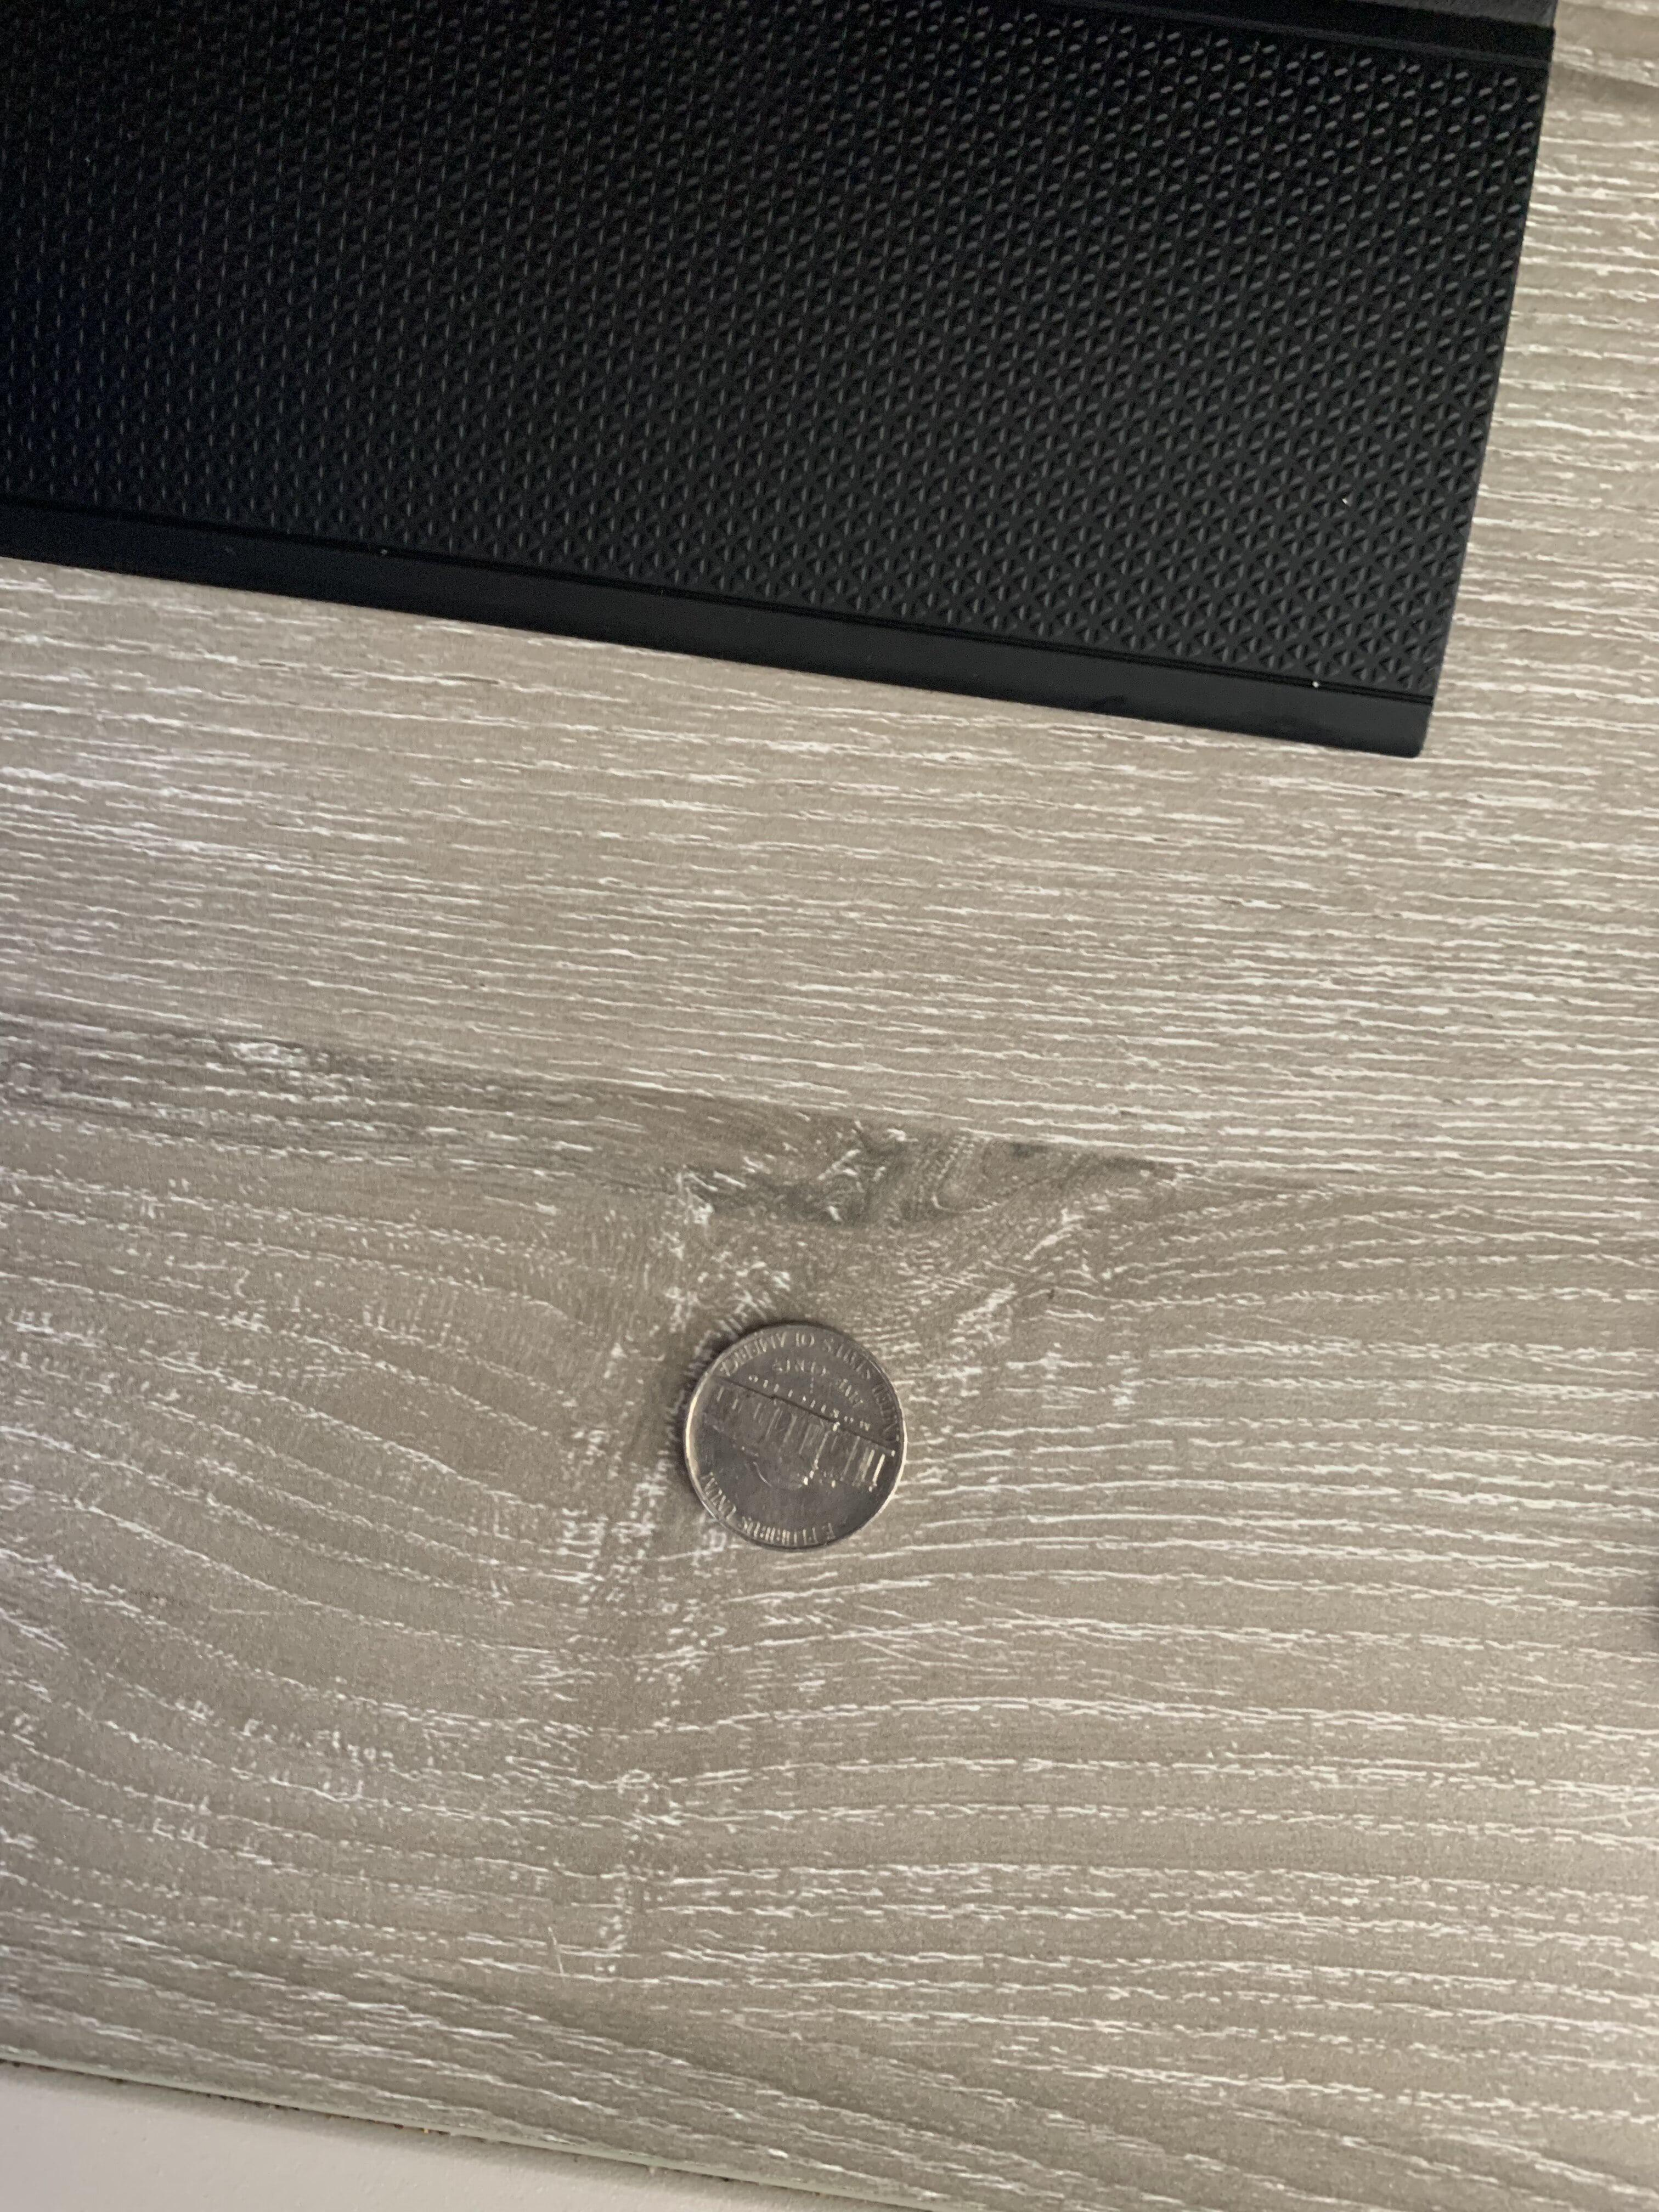Nickel: (584, 1291, 981, 1592)
